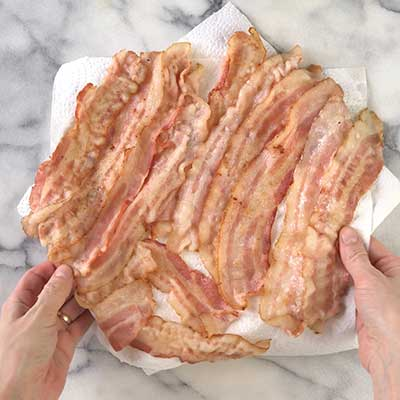bacon: (67, 70, 337, 279)
